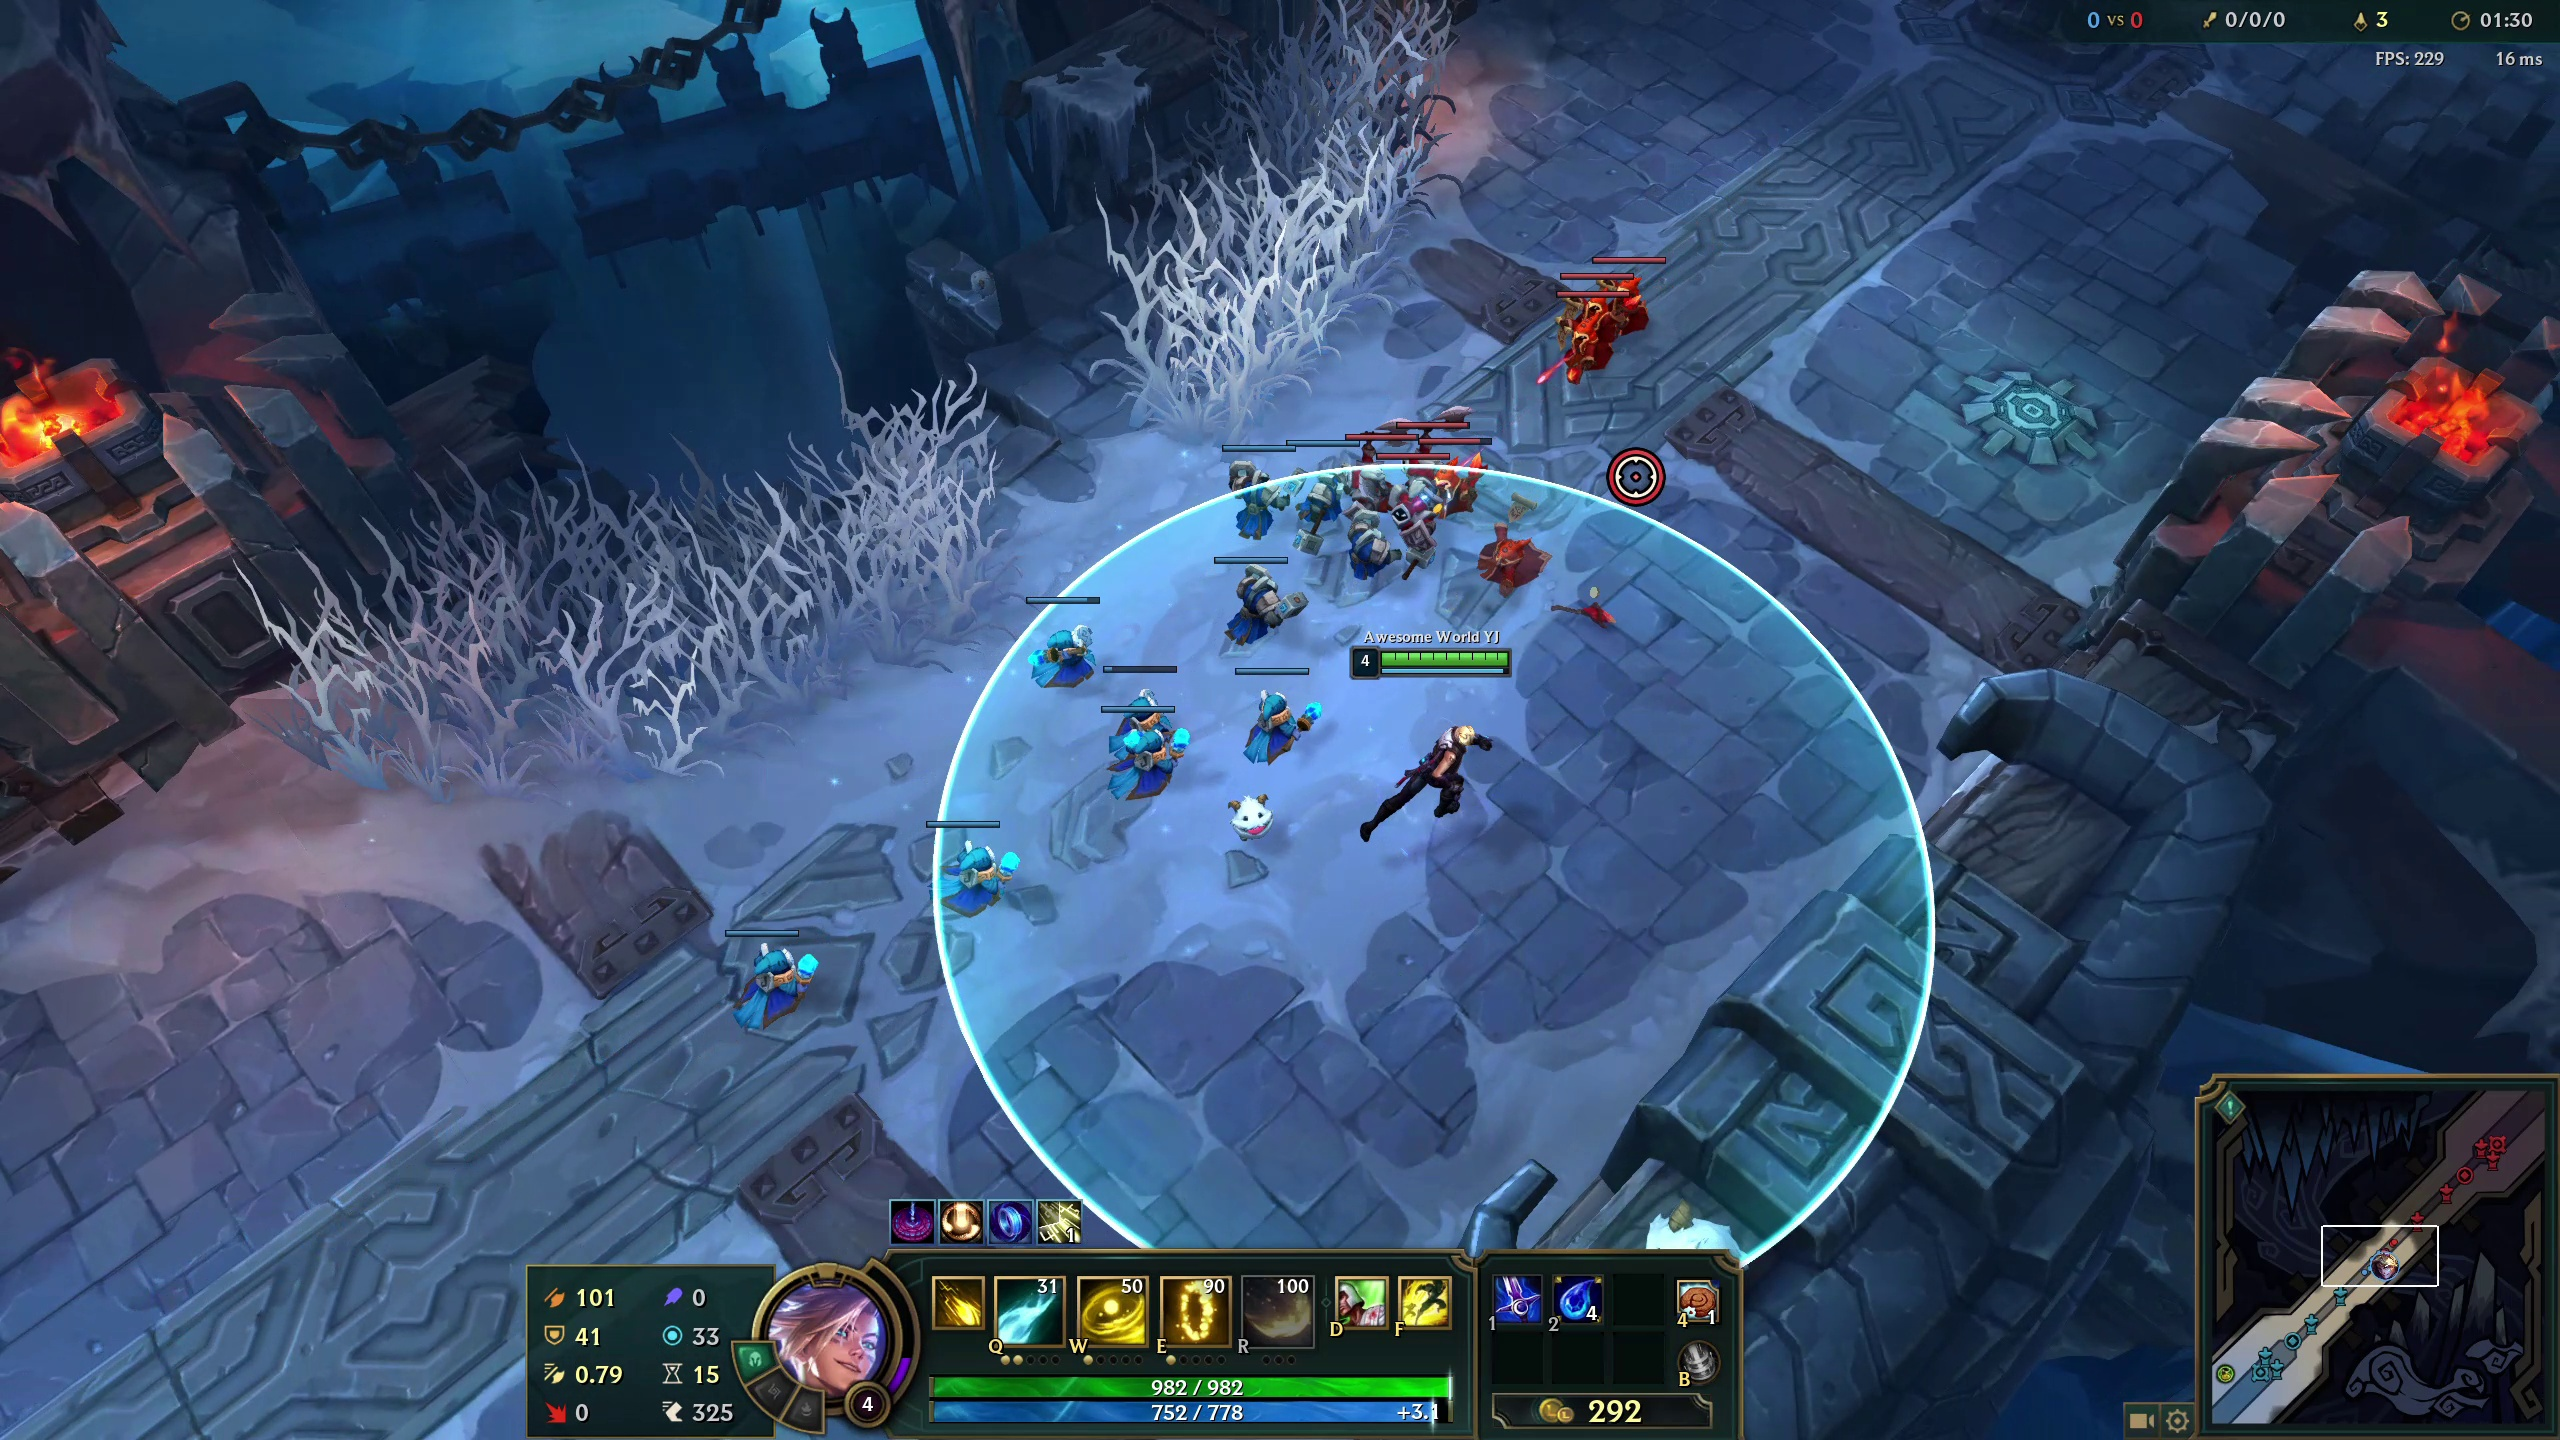EZ: (1368, 666, 1524, 893)
EnemyMinion: (1589, 232, 1669, 329), (1373, 445, 1452, 542), (1343, 413, 1422, 510), (1428, 429, 1505, 526), (1405, 401, 1482, 498), (1565, 258, 1642, 353), (1547, 295, 1623, 383)
Glass: (325, 476, 955, 695), (1185, 69, 1385, 376)
MyMinion: (1213, 659, 1326, 777), (1206, 549, 1319, 666), (925, 812, 1036, 932), (1081, 696, 1192, 816), (1197, 424, 1308, 543), (1284, 431, 1394, 550), (1090, 631, 1201, 751), (1007, 577, 1118, 695), (721, 927, 811, 1027)
